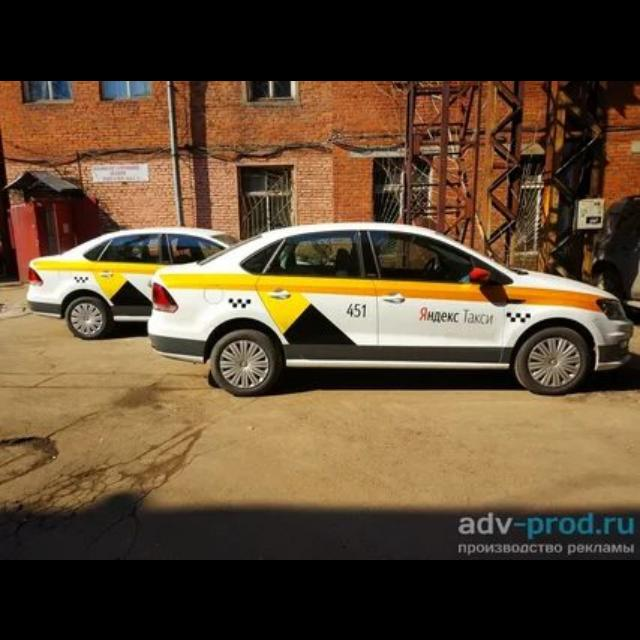taxi: (147, 221, 634, 397), (27, 226, 241, 339)
